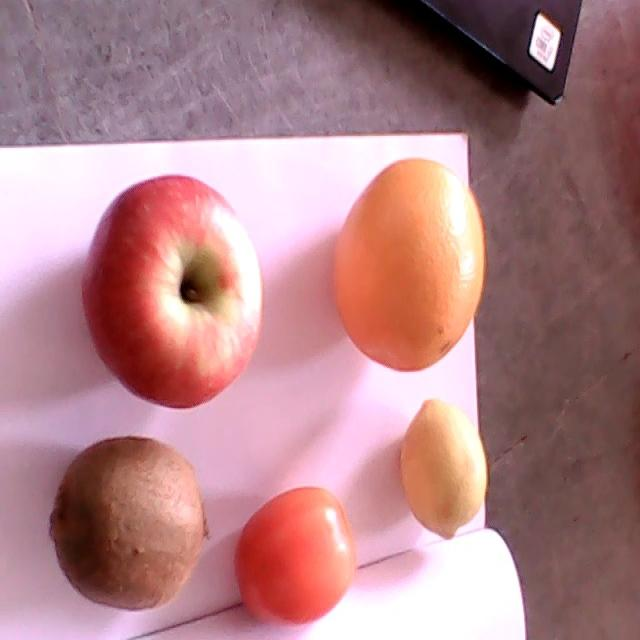apple: (82, 176, 263, 408)
kiwi: (48, 435, 211, 610)
lemon: (400, 398, 487, 539)
orange: (332, 159, 485, 370)
tomato: (232, 488, 355, 623)
